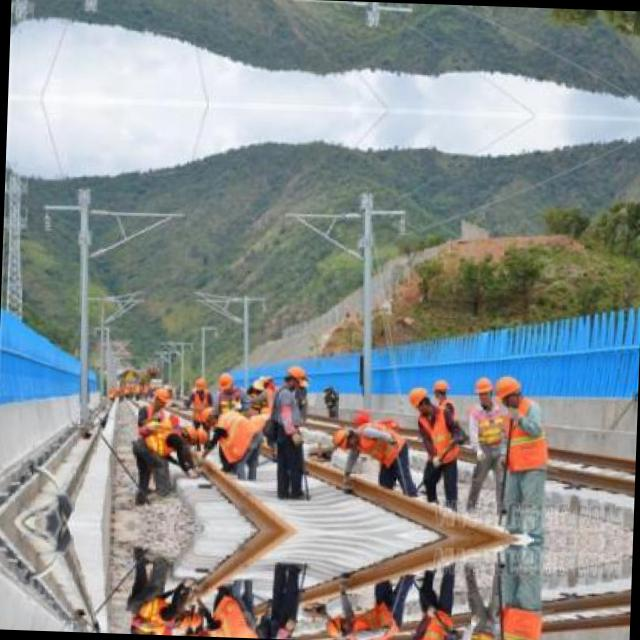helmet: (492, 371, 524, 405), (468, 374, 496, 407), (404, 384, 434, 414), (328, 428, 356, 452), (277, 365, 307, 387), (322, 612, 349, 636), (196, 404, 222, 426), (150, 385, 172, 407), (214, 369, 233, 394), (431, 376, 447, 398), (171, 610, 190, 628), (178, 425, 196, 443), (188, 374, 204, 393), (189, 628, 215, 633)
